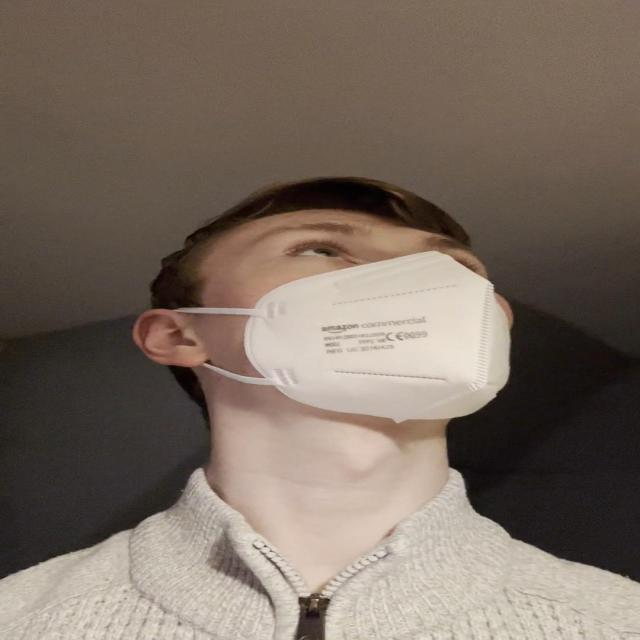no-helmet: (180, 208, 515, 421)
